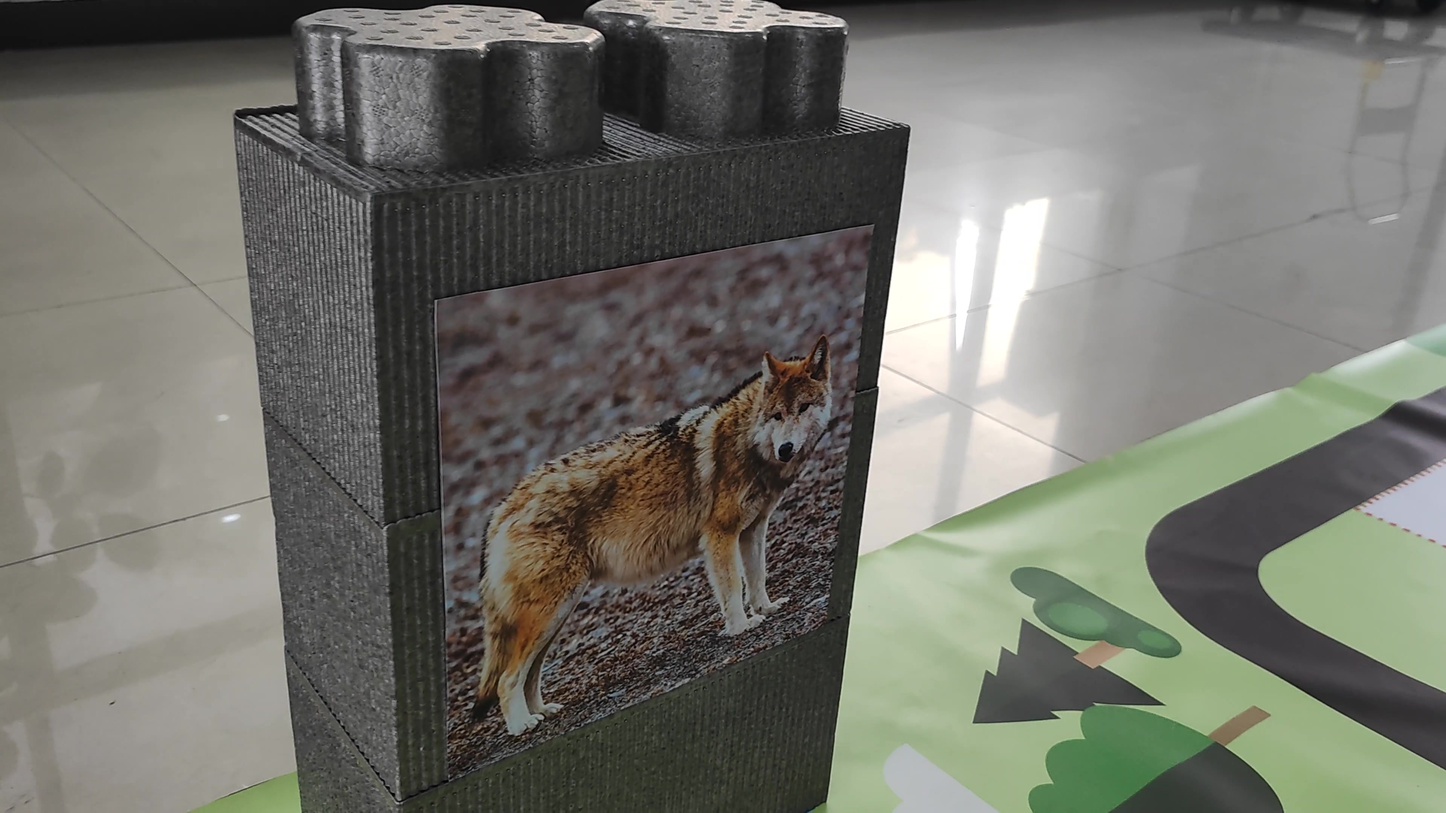wolf: (448, 282, 850, 719)
